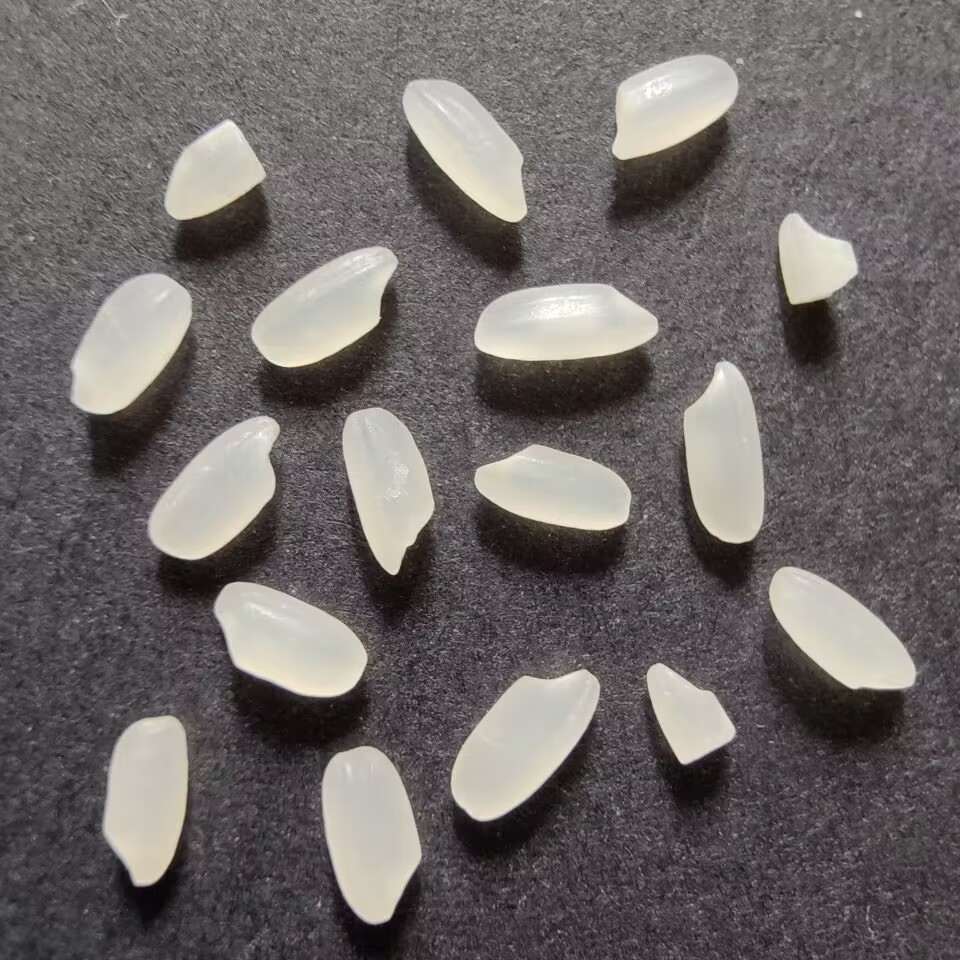broken: (161, 114, 267, 226), (641, 656, 738, 769), (774, 203, 863, 308)
rice: (447, 659, 605, 829), (312, 741, 430, 934), (143, 408, 283, 566), (396, 72, 535, 231), (766, 558, 921, 696), (60, 267, 198, 420), (207, 580, 371, 706), (250, 242, 399, 369), (673, 354, 769, 549), (339, 401, 442, 580), (100, 713, 195, 890), (464, 437, 634, 535), (464, 278, 661, 362), (608, 47, 741, 166)
